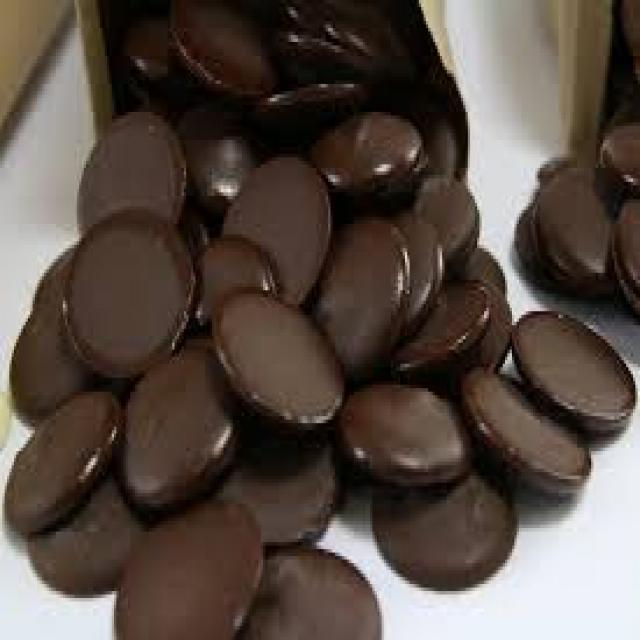Chocolate: (6, 0, 640, 640)
